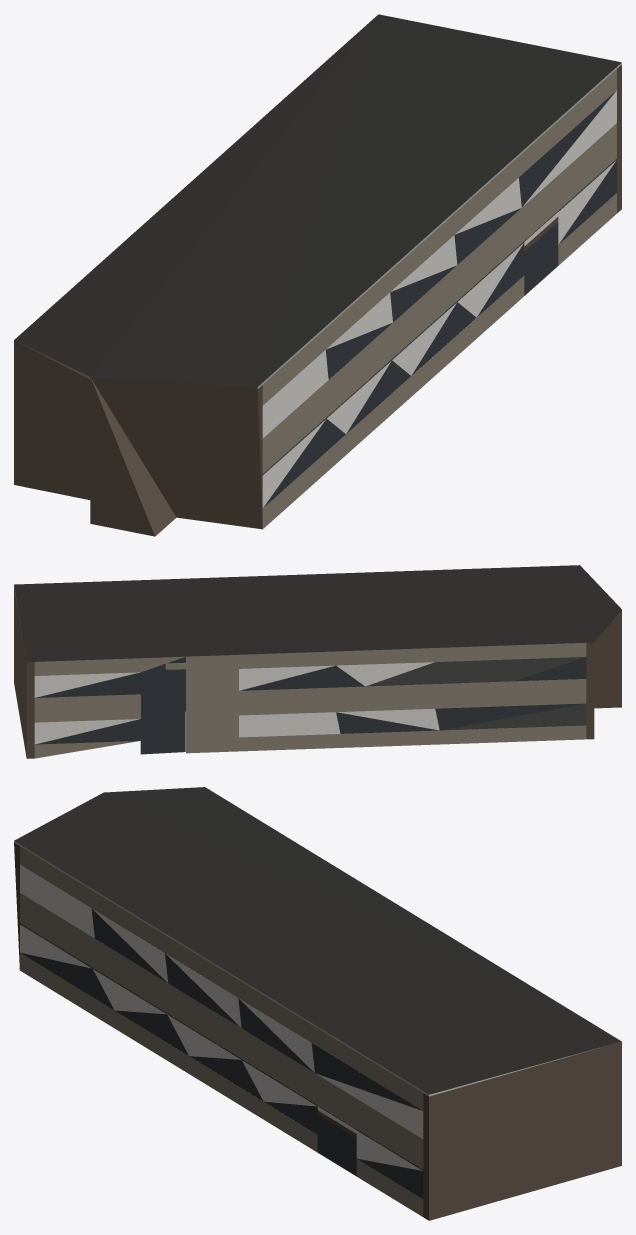
The model's file is commandementsgebouw.lod2.glb.
The picture shows the model from 3 angles, top to bottom: view 1: azimuth 30°, elevation 25°; view 2: azimuth 150°, elevation 25°; view 3: azimuth 270°, elevation 25°; orthographic projection. The views are drawn at different scales.
Visible parts, largest first — view 1: lod2; view 2: lod2; view 3: lod2.
Part boxes in pixels (x1,y1,x2,y2): lod2: (14,14,621,536); lod2: (14,565,621,758); lod2: (14,787,621,1220).
Size of the model in its own units: 42.76 by 8.13 by 35.49.
